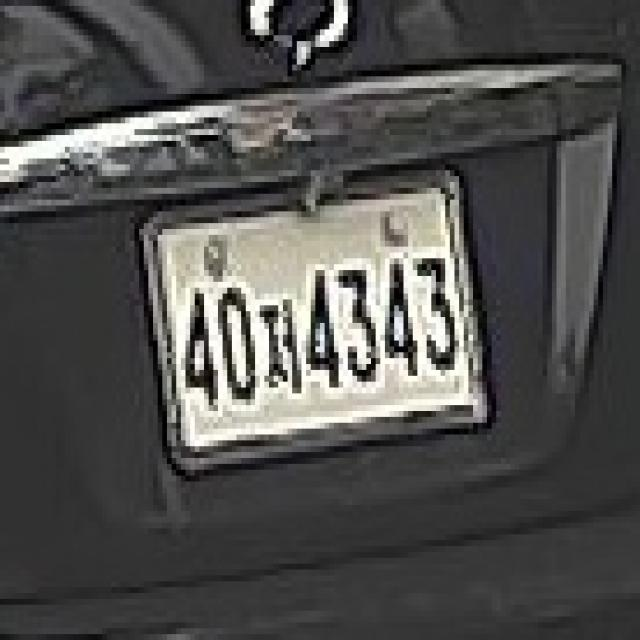0: (218, 288, 260, 399)
3: (413, 252, 464, 376), (334, 264, 380, 388)
4: (380, 258, 422, 382), (302, 270, 343, 382), (181, 288, 222, 399)
jeo: (251, 294, 306, 394)
license_plate: (144, 170, 492, 470)
